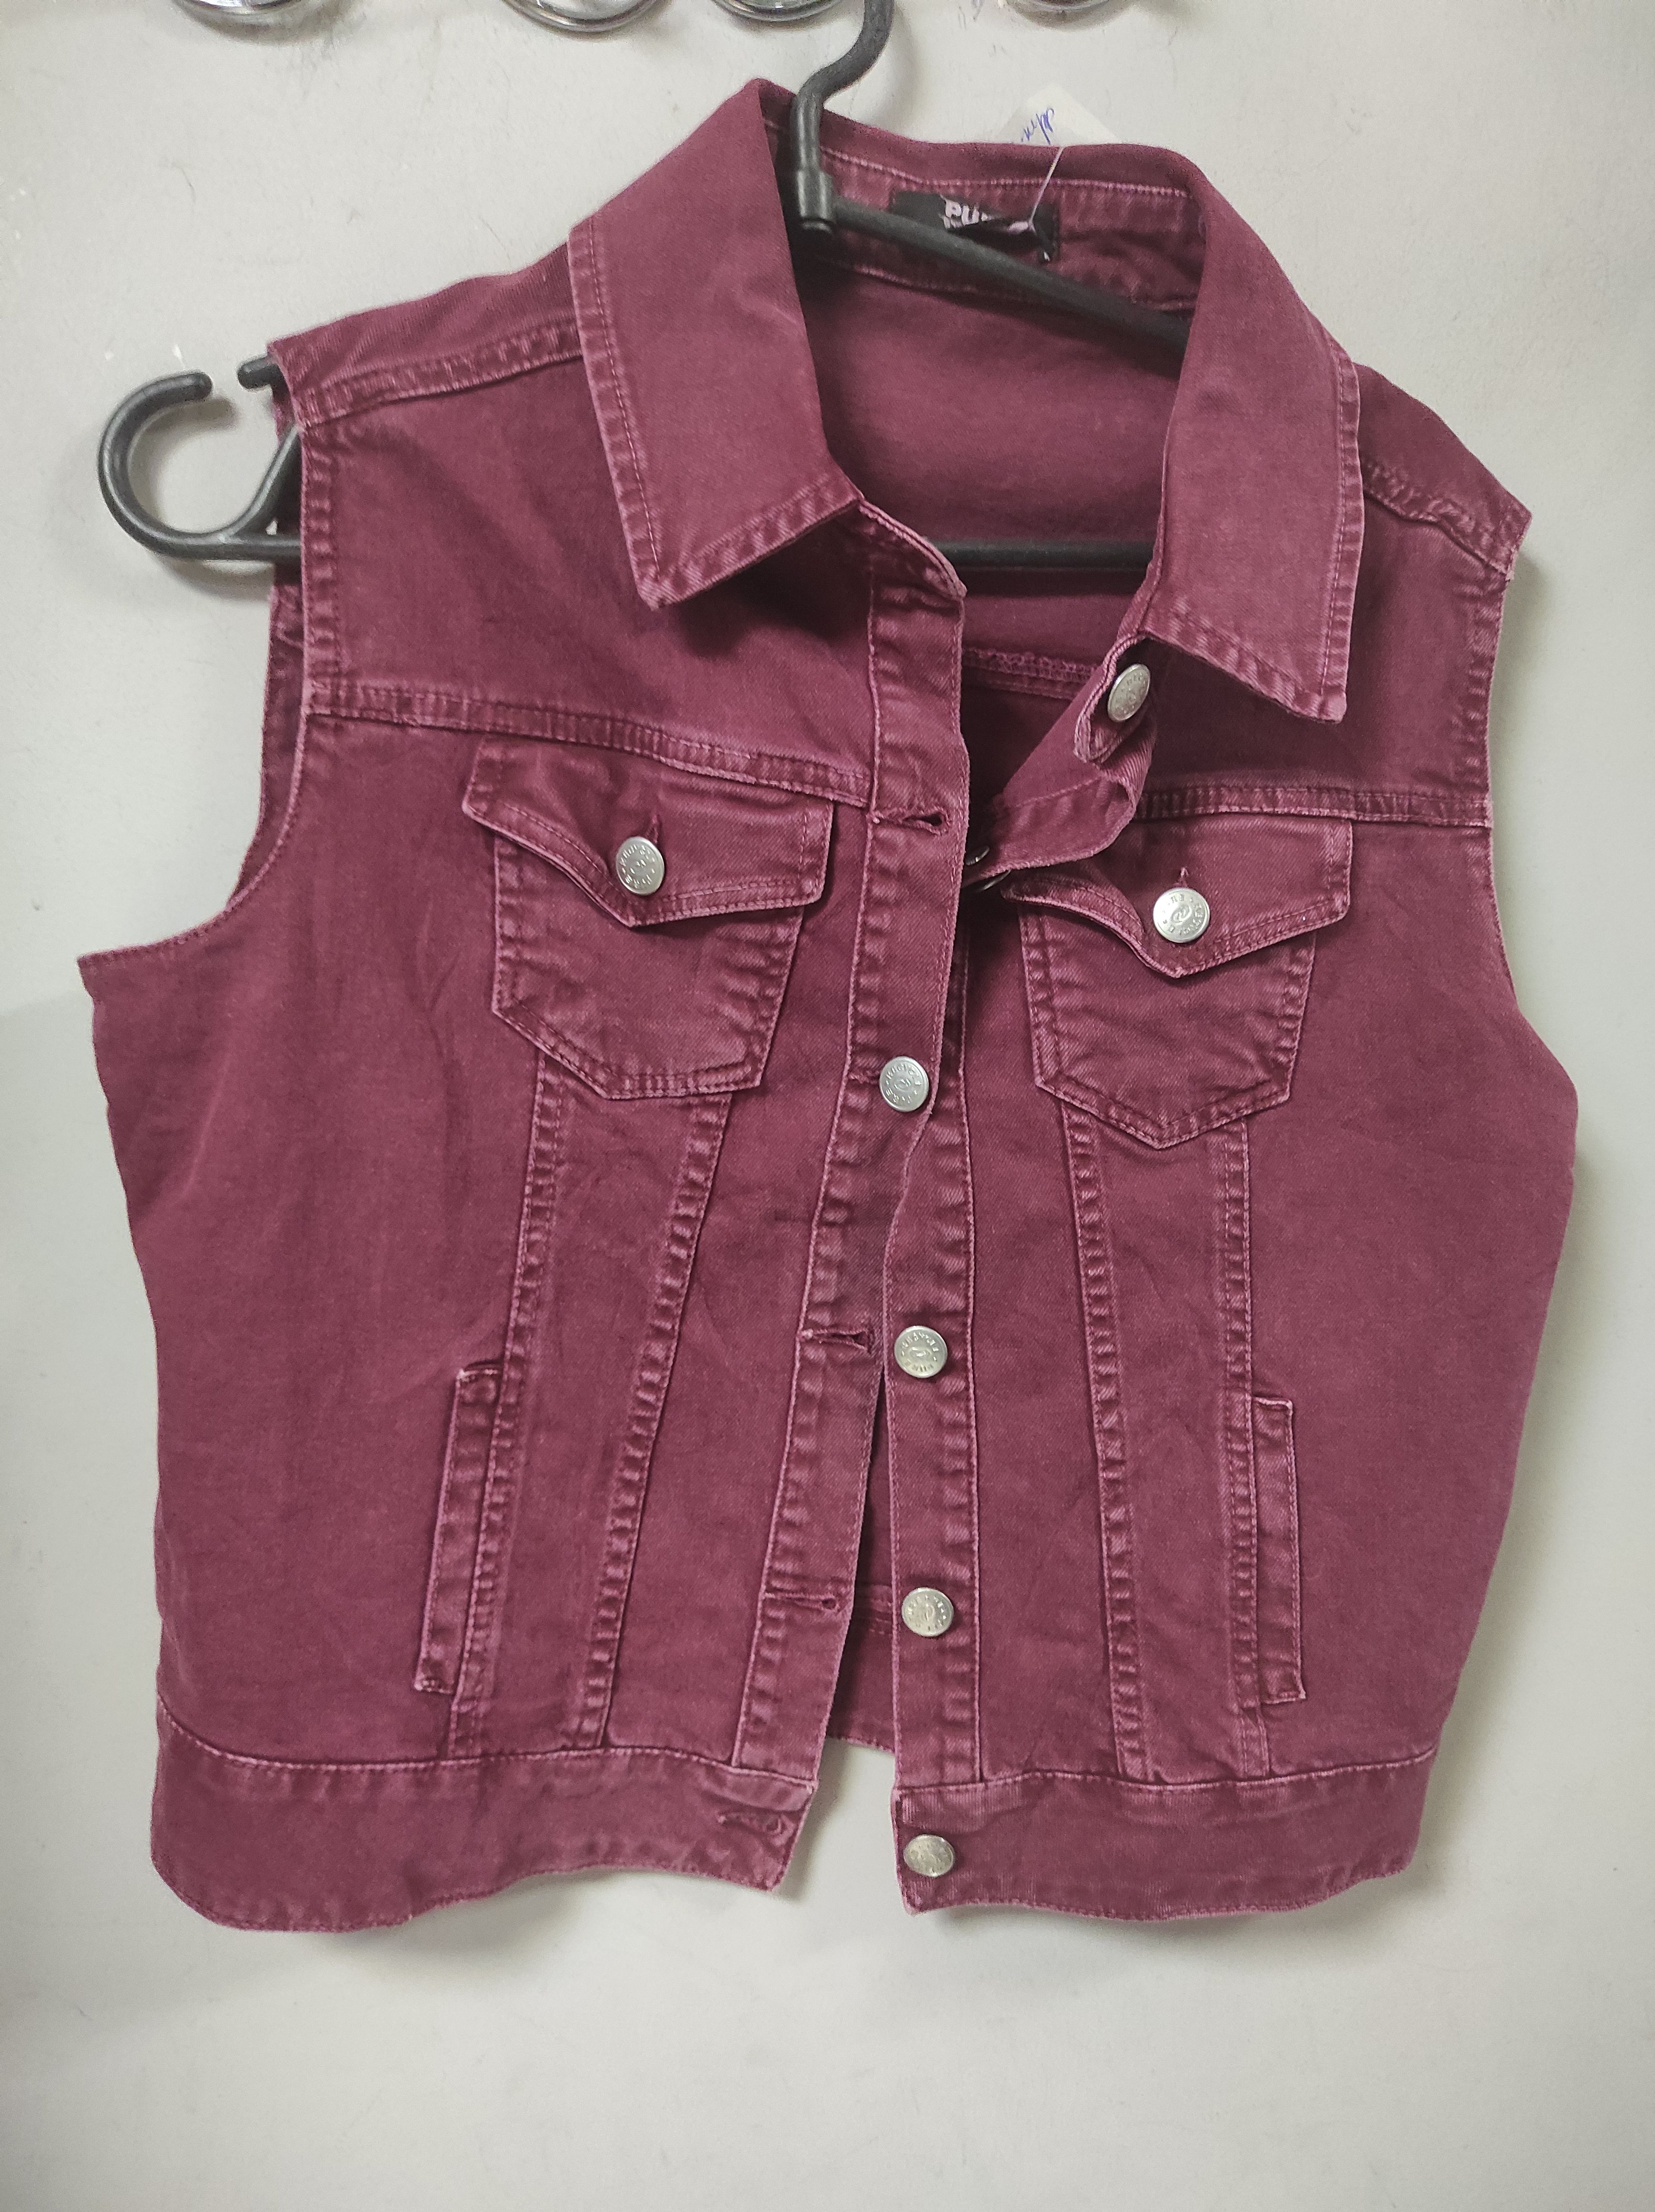clothes: (49, 57, 1544, 1934)
